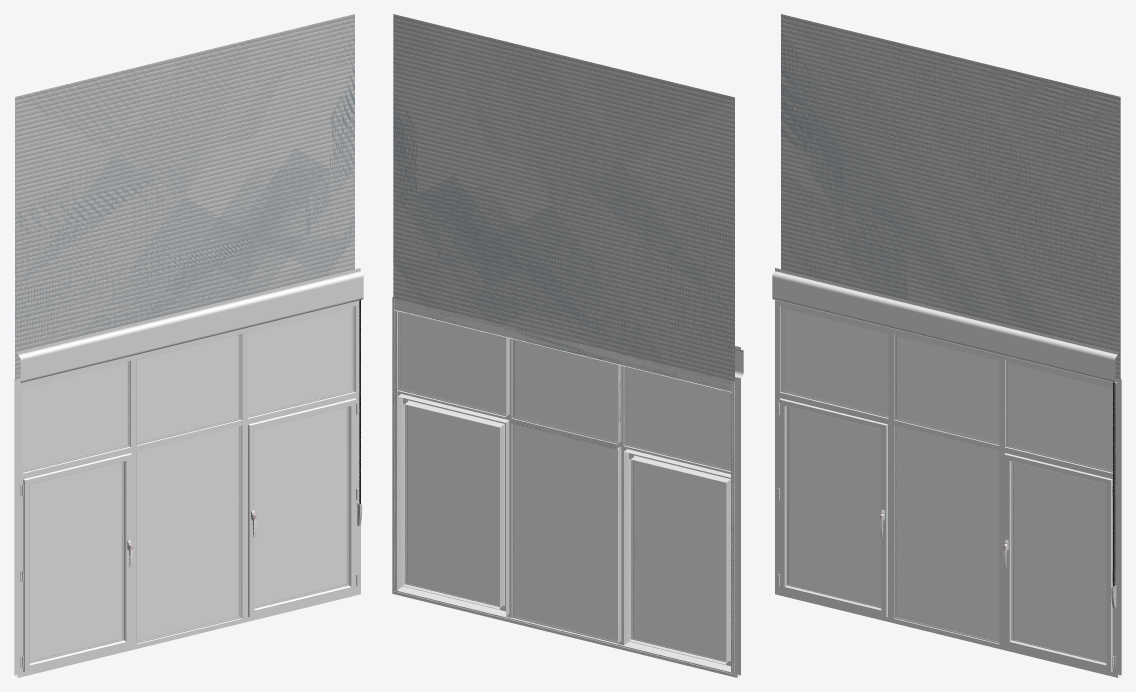
The model's file is Window3_os_220x200x[3 casement_blinds].dae.
3 views of the same model, side by side, from view 1: azimuth 30°, elevation 25°; view 2: azimuth 150°, elevation 25°; view 3: azimuth 330°, elevation 25° (orthographic).
Visible parts, largest first — view 1: group_11 (×8), group_22, group_18 (×4), group_9 (×2), group_10 (×2), group_24, group_8 (×2), group_21; view 2: group_22 (×2), group_11 (×8), group_18 (×6), group_9 (×2), group_10 (×6), group_21 (×3), group_8 (×4); view 3: group_11 (×8), group_22, group_18 (×4), group_9 (×2), group_10, group_24, group_8 (×2), group_21.
Part boxes in pixels (x1,y1,x2,y2): group_11 (×8): (23,306,355,643); group_22: (15,14,354,378); group_18 (×4): (23,453,131,671); group_9 (×2): (254,406,349,608); group_10 (×2): (18,300,360,677); group_24: (17,268,363,383); group_8 (×2): (248,398,355,616); group_21: (14,378,20,675); group_22 (×2): (393,14,734,392); group_11 (×8): (398,311,730,643); group_18 (×6): (625,452,730,670); group_9 (×2): (405,404,499,607); group_10 (×6): (397,338,740,675); group_21 (×3): (392,297,737,677); group_8 (×4): (398,396,509,615); group_11 (×8): (780,306,1112,643); group_22: (781,14,1120,378); group_18 (×4): (780,398,887,616); group_9 (×2): (1011,461,1106,663); group_10: (775,300,1117,677); group_24: (772,268,1117,383); group_8 (×2): (1004,453,1112,671); group_21: (1115,378,1121,675).
Bounding box in the file's own units: 86.63 × 4.16 × 139.
12 materials, 1 textured.
